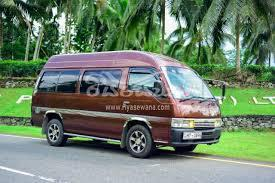van: (27, 46, 227, 158)
